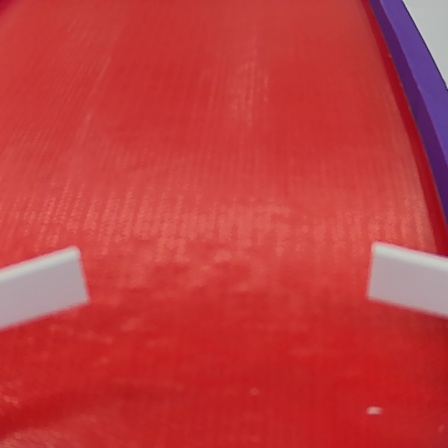red_aim: (1, 0, 446, 448)
